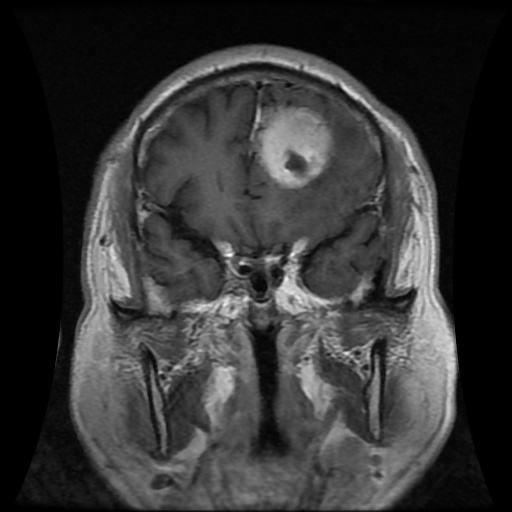meningioma: (257, 104, 333, 187)
